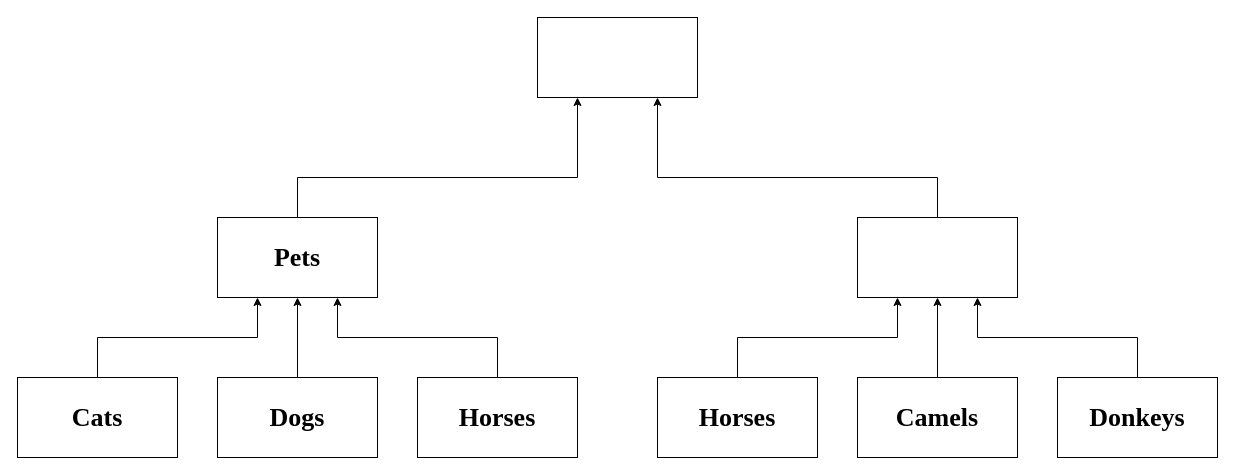
Image size: 1235x475. Some labels were removed from this diagram. Here are the shapes that lost their labels. From the top down, the centre of each, then its label:
(617,57): Animals
(937,257): PackAnimals
